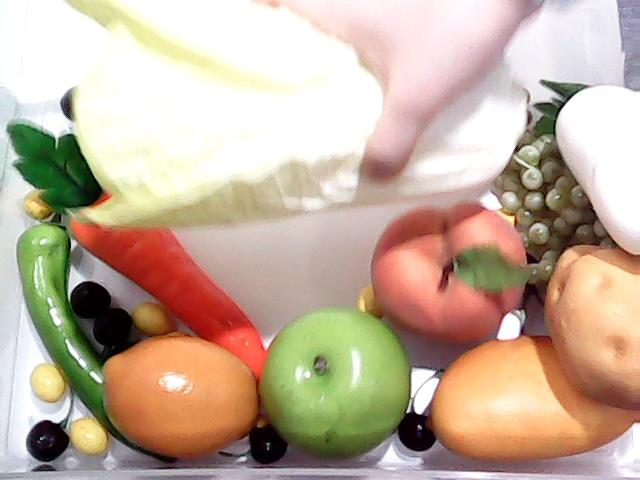apple: (253, 300, 414, 460)
carrot: (7, 112, 269, 376)
grape: (502, 140, 606, 248)
lemon: (78, 327, 286, 471)
mango: (428, 334, 640, 463)
napa cabbage: (66, 0, 530, 232)
peach: (370, 200, 530, 346)
pepper: (14, 175, 186, 465)
potato: (540, 240, 640, 412)
radish: (524, 77, 640, 256)
